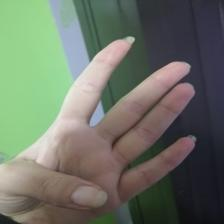four: (11, 34, 197, 206)
